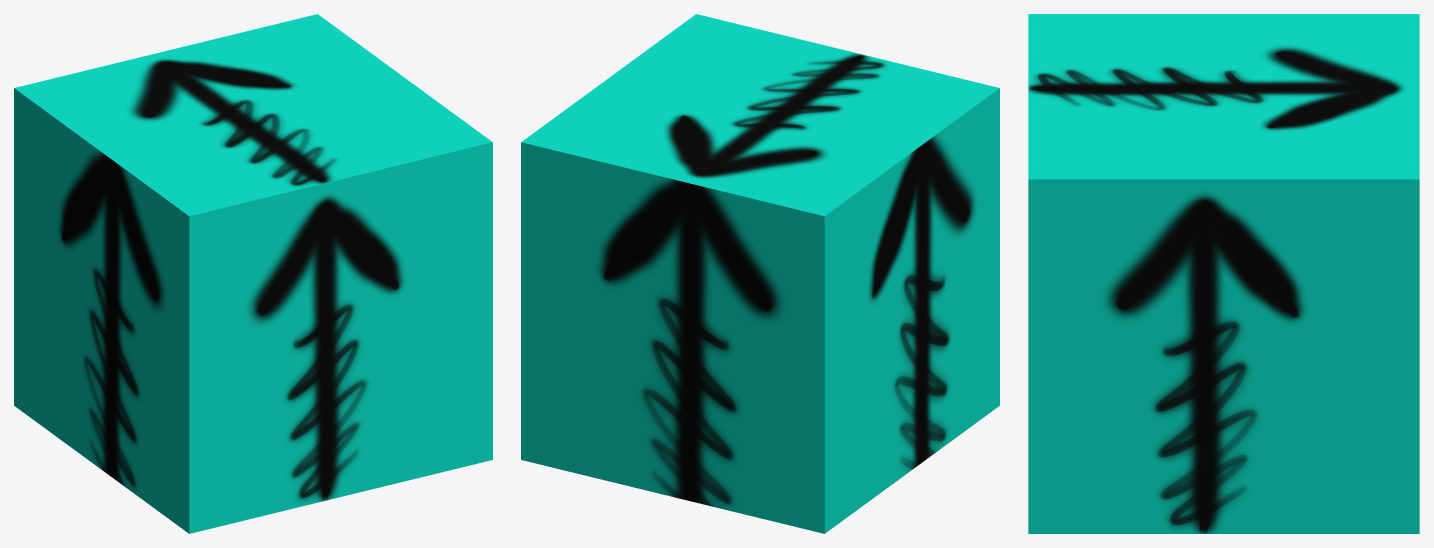
File: verticalPU.glb
3 views of the same model, side by side, from view 1: azimuth 30°, elevation 25°; view 2: azimuth 150°, elevation 25°; view 3: azimuth 270°, elevation 25° (orthographic). The views are drawn at different scales.
Visible parts, largest first — view 1: PowerupSymbol; view 2: PowerupSymbol; view 3: PowerupSymbol.
Part boxes in pixels (x1,y1,x2,y2): PowerupSymbol: (14,14,492,533); PowerupSymbol: (521,14,999,533); PowerupSymbol: (1028,14,1419,533).
Bounding box in the file's own units: 2 × 2 × 2.
Materials: 2 (1 with a texture image).
